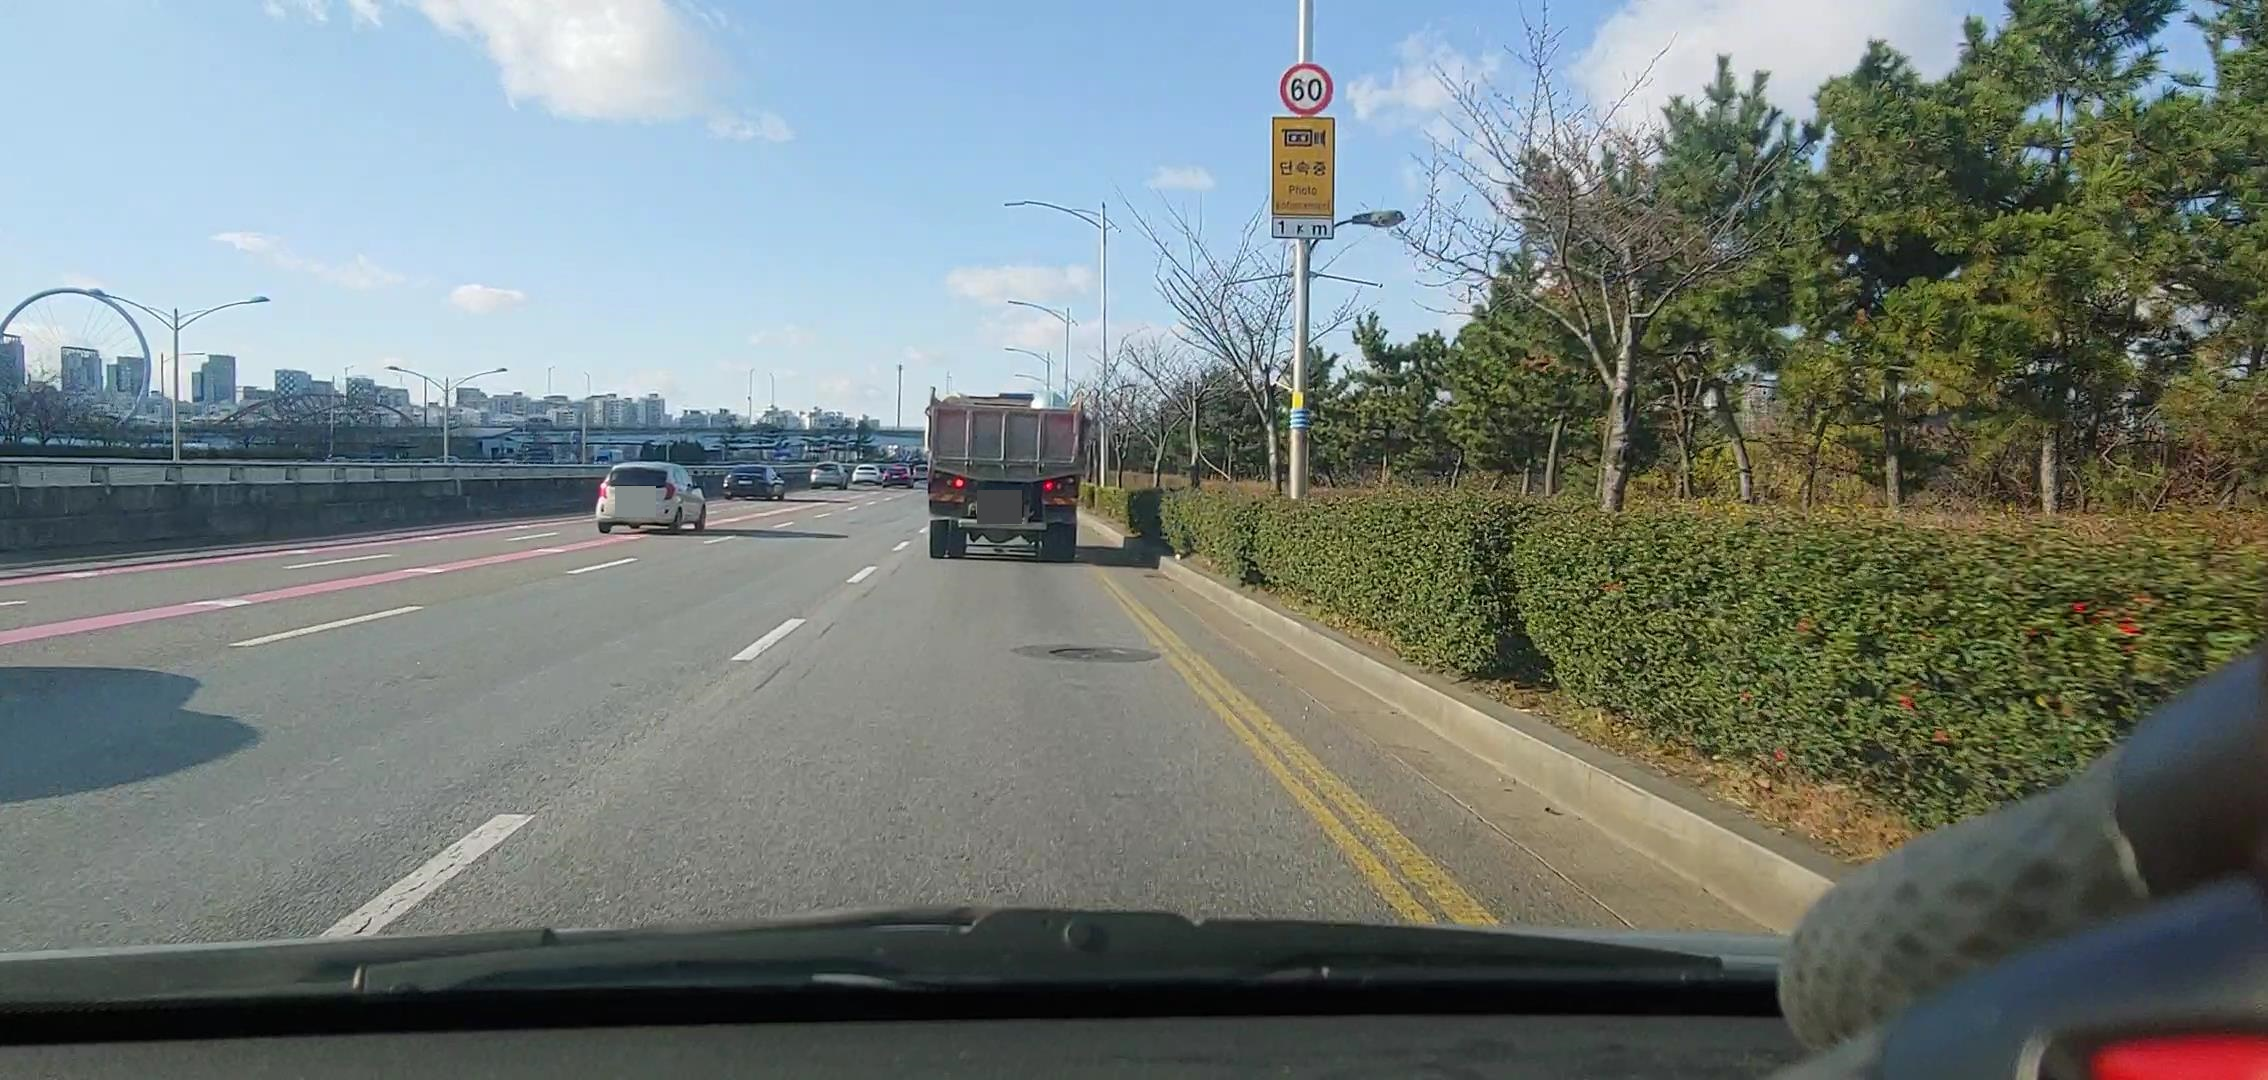불법차량: (924, 385, 1093, 564)
